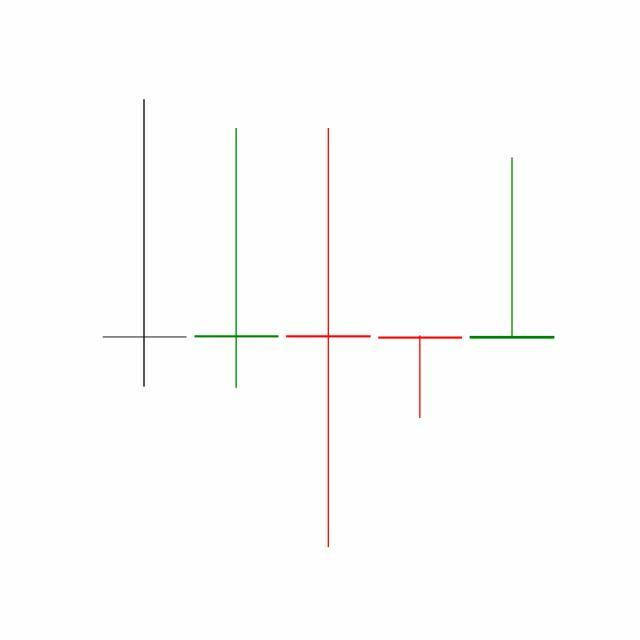Gravestone Doji: (466, 156, 559, 341)
